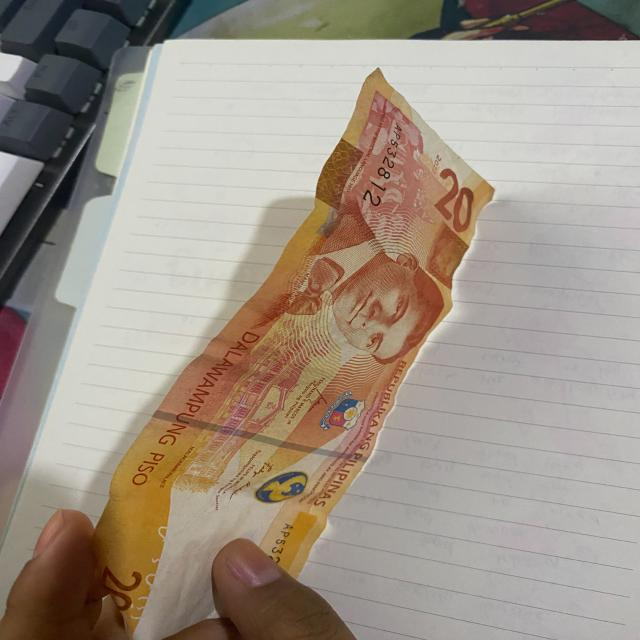security_thread: (151, 403, 372, 473)
see_through_mark: (131, 516, 175, 623)
serial_number: (361, 110, 408, 215)
value: (424, 156, 480, 230)
watermark: (175, 499, 268, 613)
